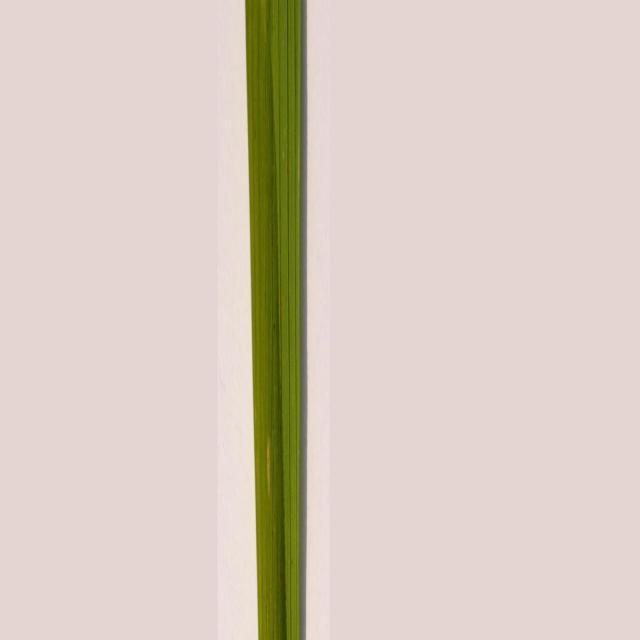leaf blight: (248, 429, 290, 511)
